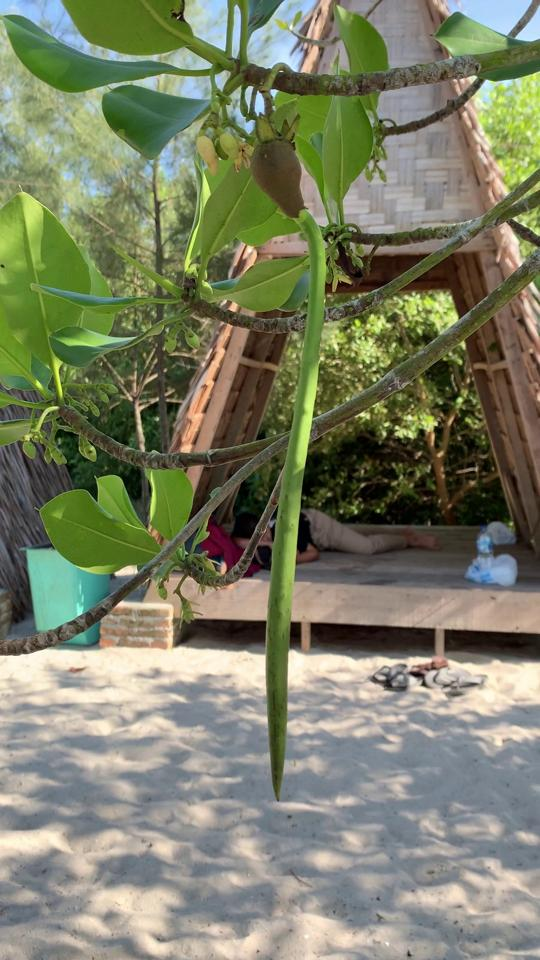setengah matang: (228, 111, 337, 806)
